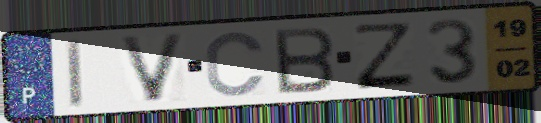3: (425, 17, 480, 85)
B: (270, 25, 338, 96)
C: (203, 29, 269, 99)
I: (64, 36, 86, 109)
V: (116, 31, 189, 105)
Z: (353, 21, 418, 92)
